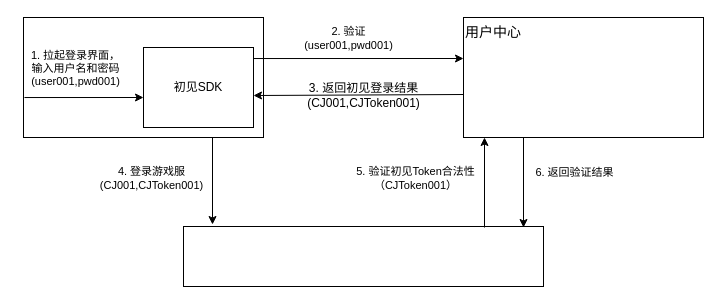
Image size: 722x304. Some labels were removed from this diagram. The shapes that lost their labels are listed below. From the top down, each one's box as (x1, y1, x2, y2) in pixels, then its label:
(22, 16, 264, 138): 游戏客户端
(182, 226, 544, 286): 游戏服务器
